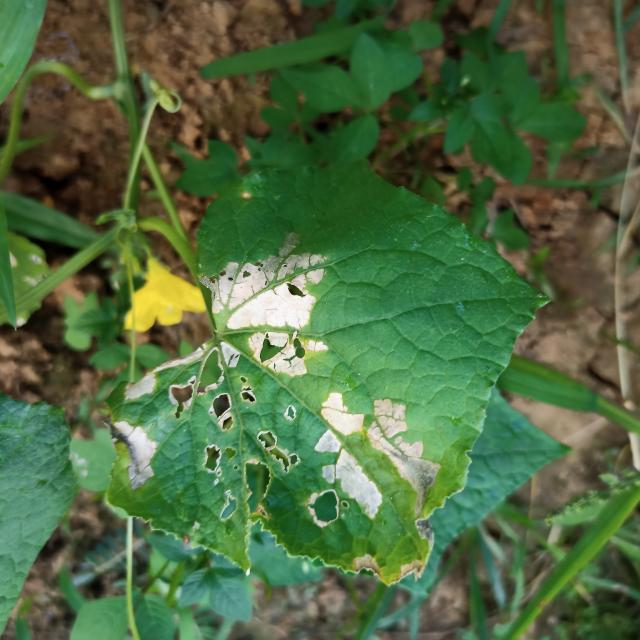disease_cucumber: (119, 333, 435, 566), (203, 224, 336, 334)
